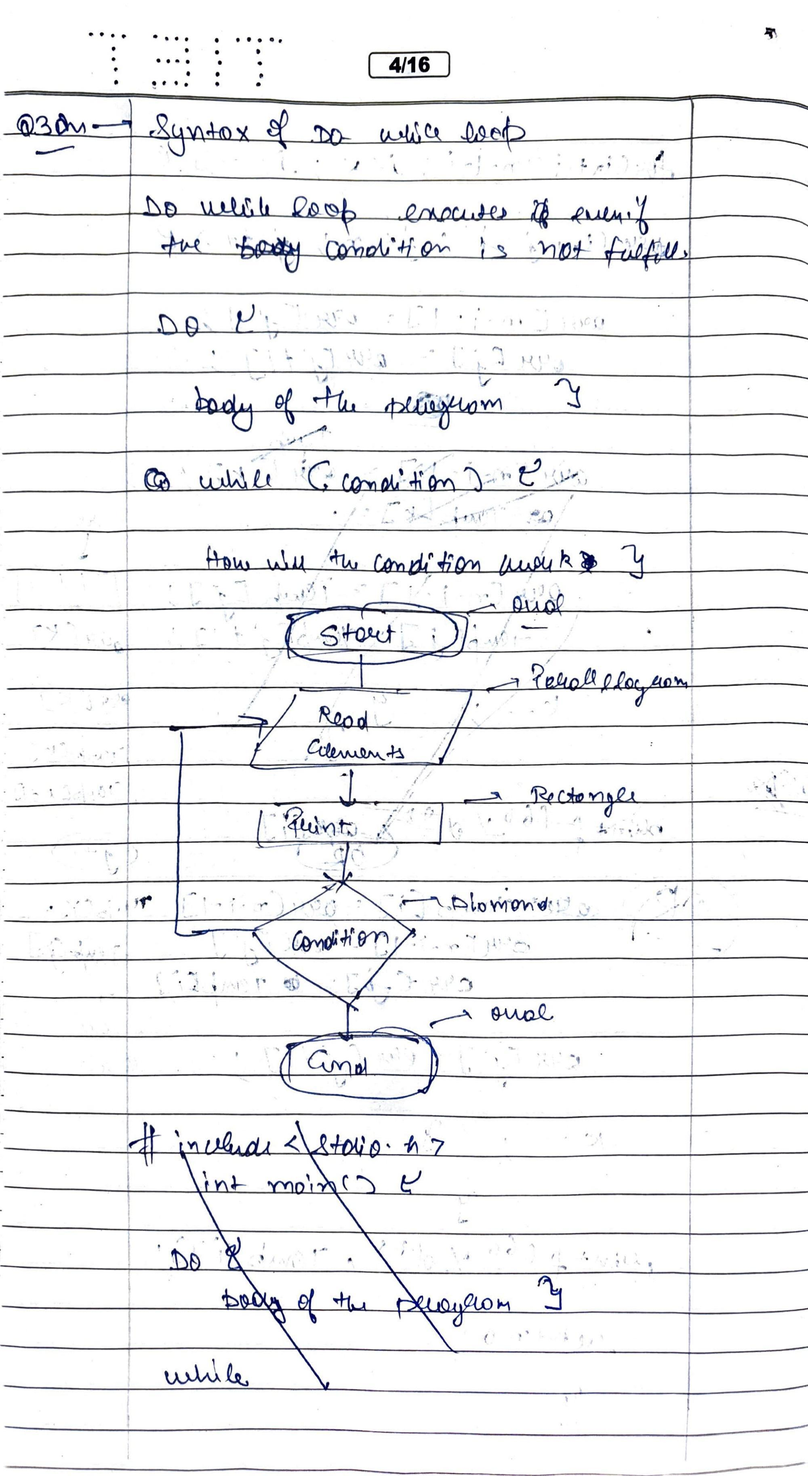cuttings: (121, 1118, 575, 1396), (233, 239, 307, 274), (529, 198, 554, 231), (579, 550, 598, 572)
